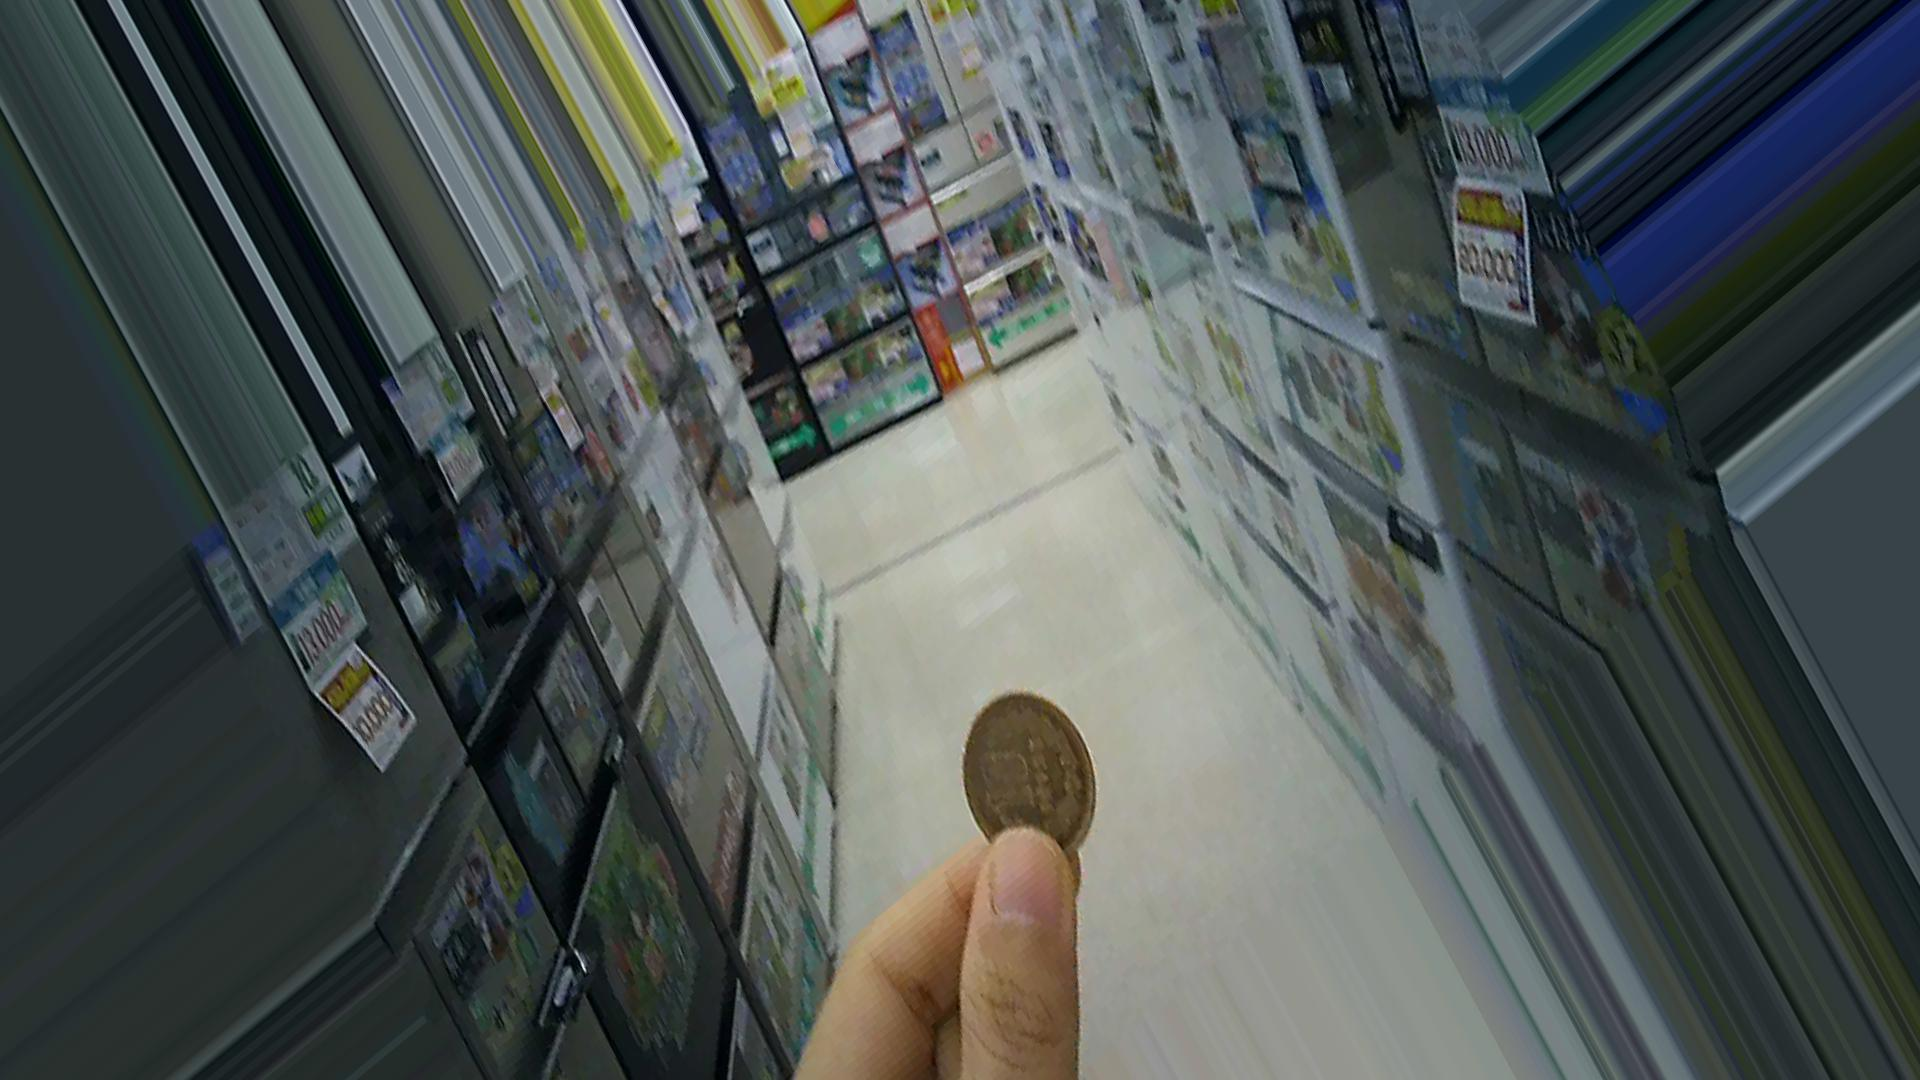10 Yen: (951, 694, 1100, 861)
